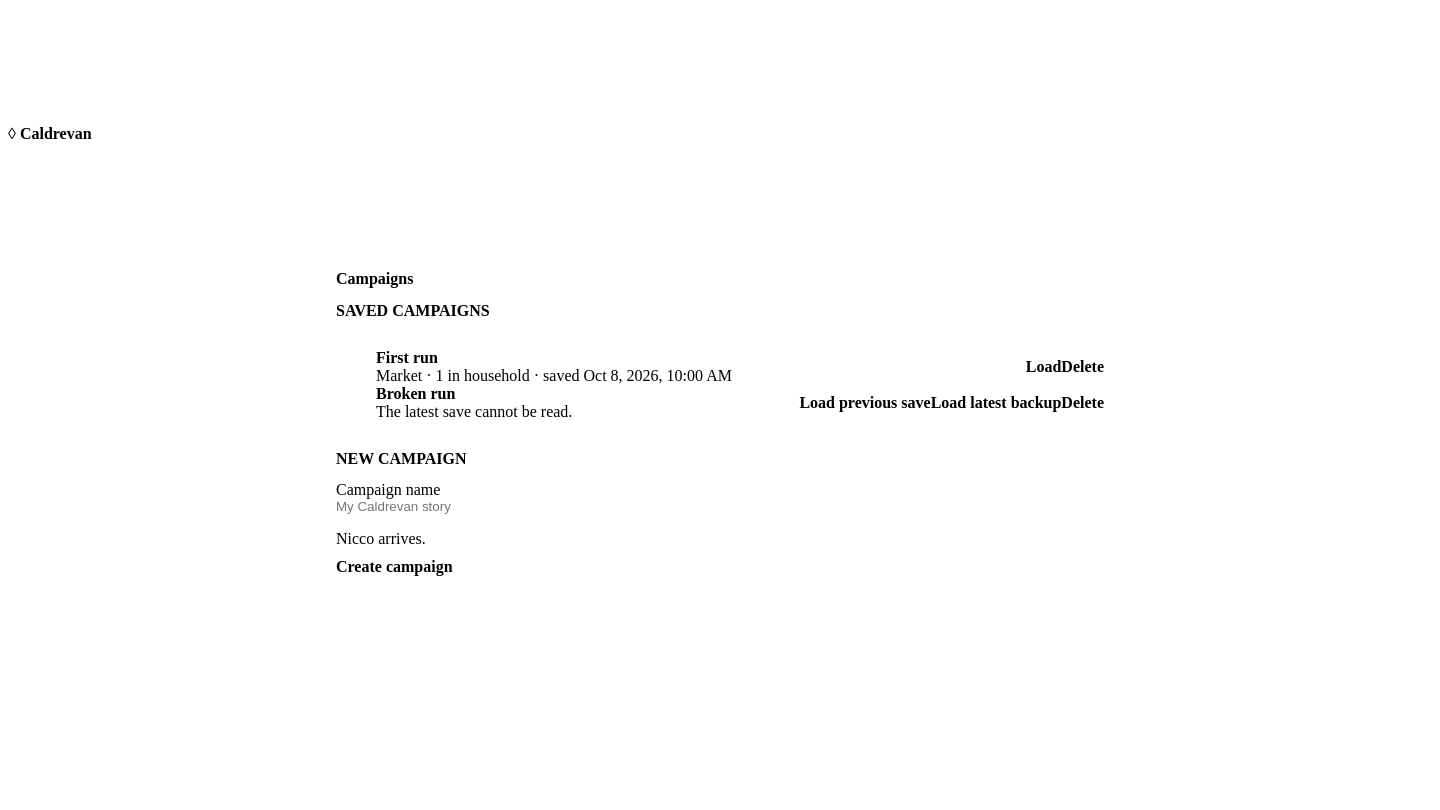
start screen › explicit recovery loads the chosen slot, shows the load report once and opens that campaign's story, not the previous one
This screenshot has width=1440, height=810.
Click the button "Load previous save" at [865, 403], box [799, 389, 931, 417]
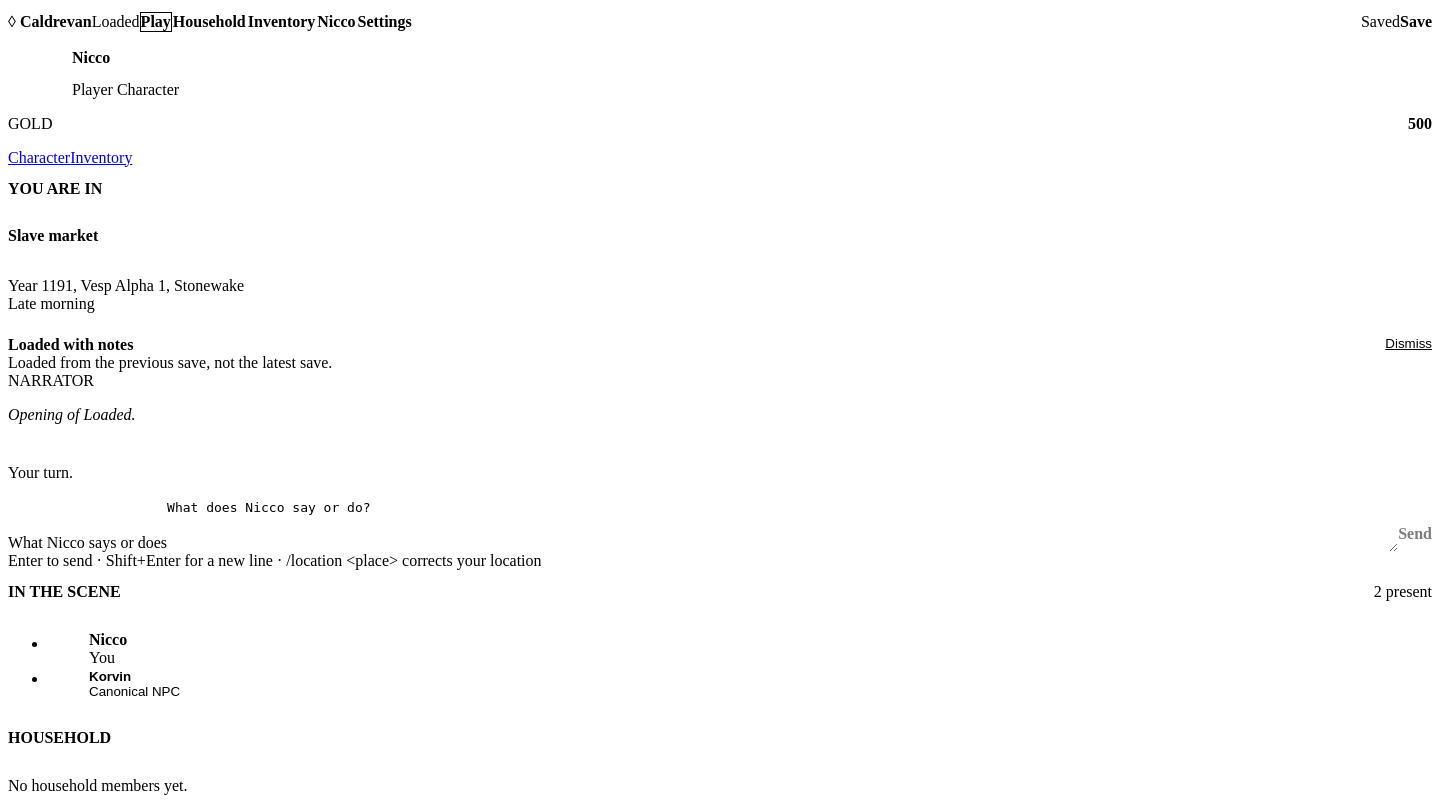
Check: the text "Opening of Loaded." is shown, box [8, 406, 136, 423]
Check: the text "Loaded with notes Loaded from the previous save, not the latest save. Dismiss" is shown, box [8, 336, 1432, 372]
Click the button "Dismiss" at [1409, 344], box [1385, 336, 1432, 351]
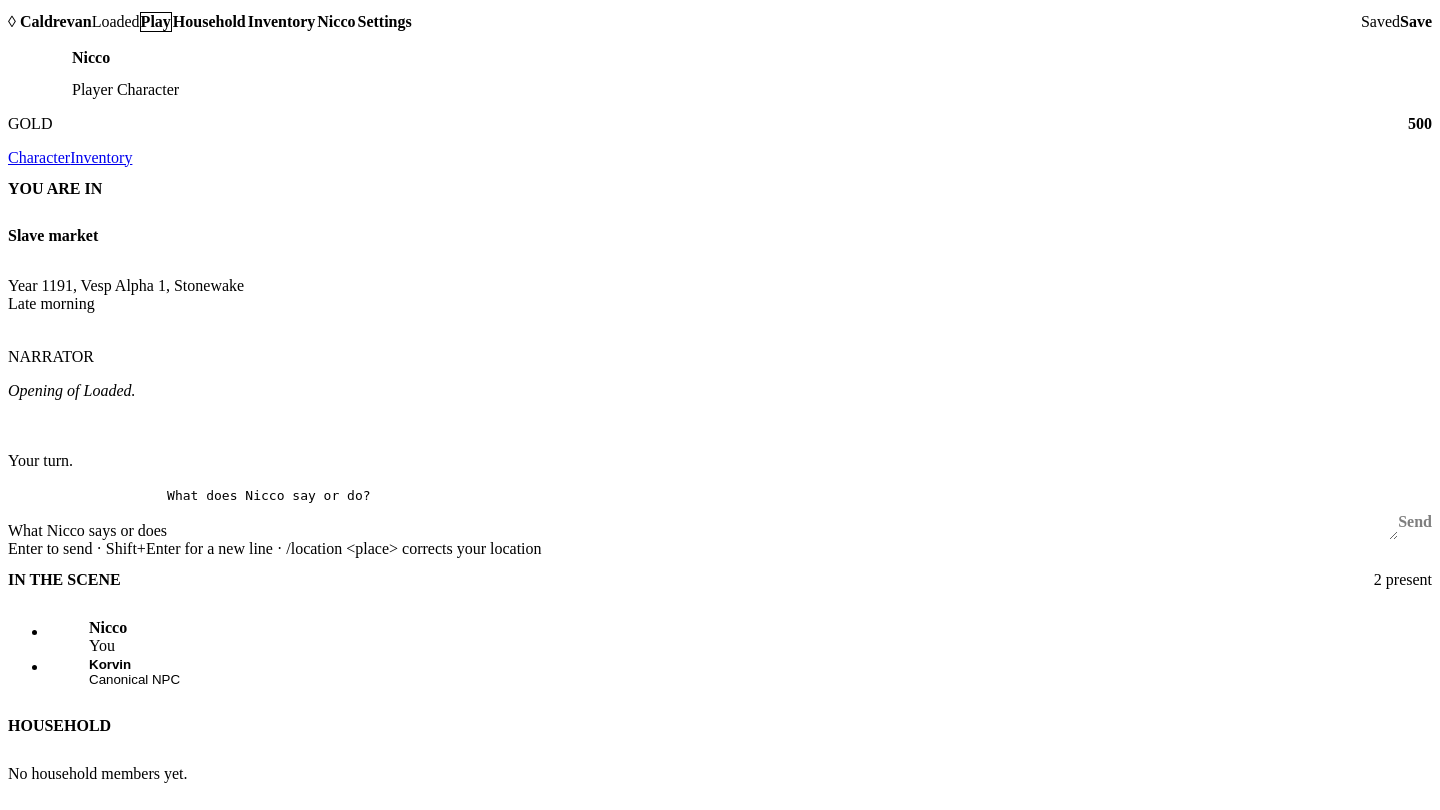
Check: the text "Loaded from the previous save" is gone
